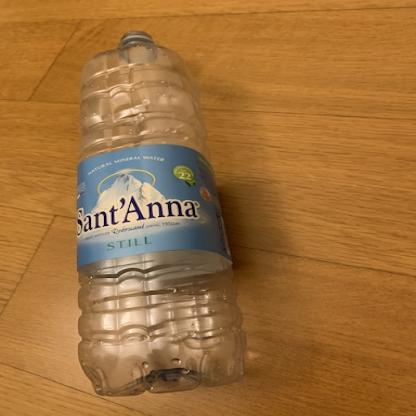trash: (70, 30, 250, 402)
